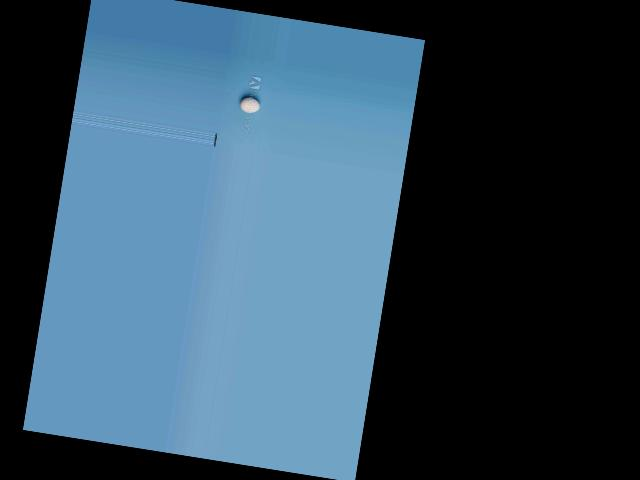egg: (239, 96, 260, 114)
